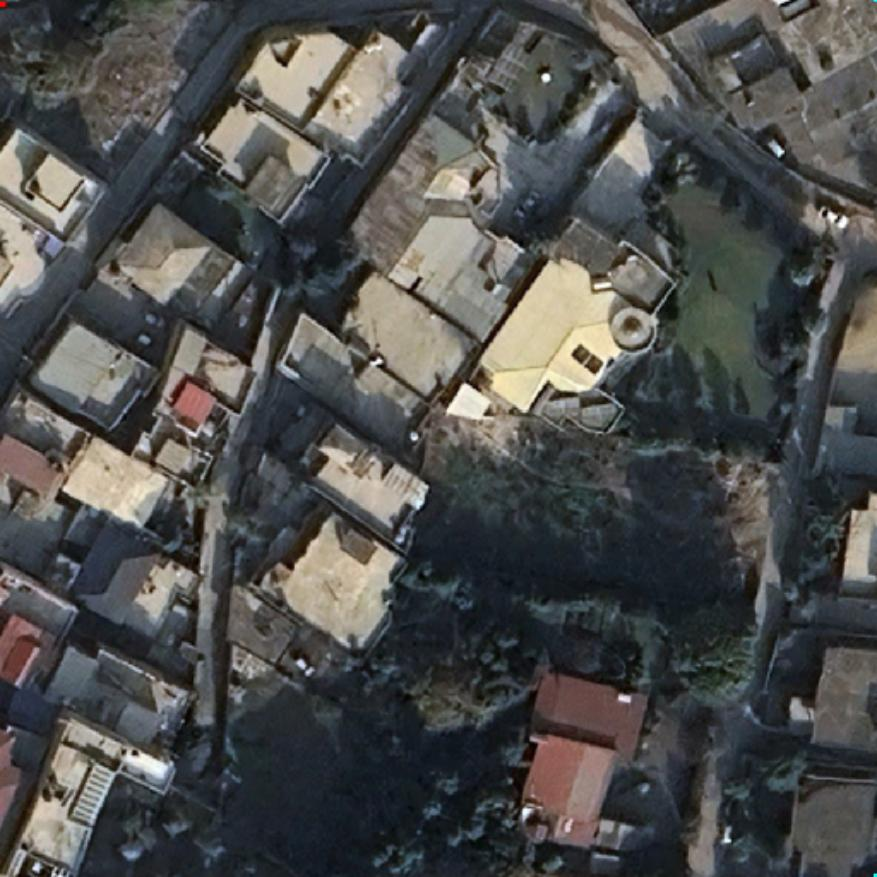Solarpanel: (570, 342, 604, 375)
